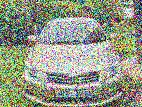car: (23, 17, 125, 107)
